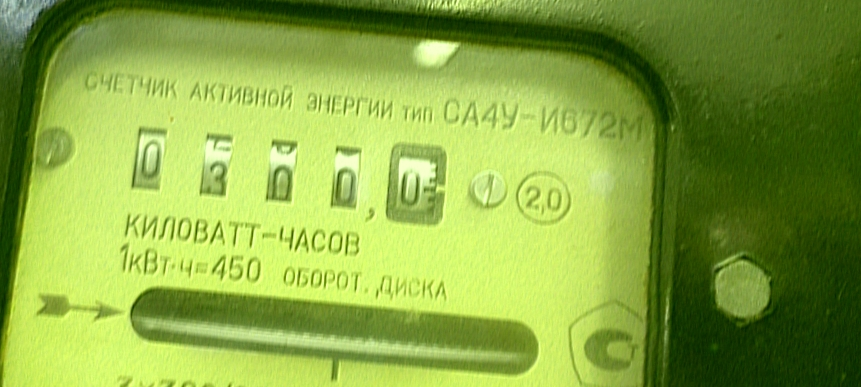0: (138, 136, 165, 185), (332, 165, 360, 211), (396, 167, 424, 211), (268, 163, 295, 206)
3: (204, 159, 230, 199)
screen: (109, 104, 470, 246)
